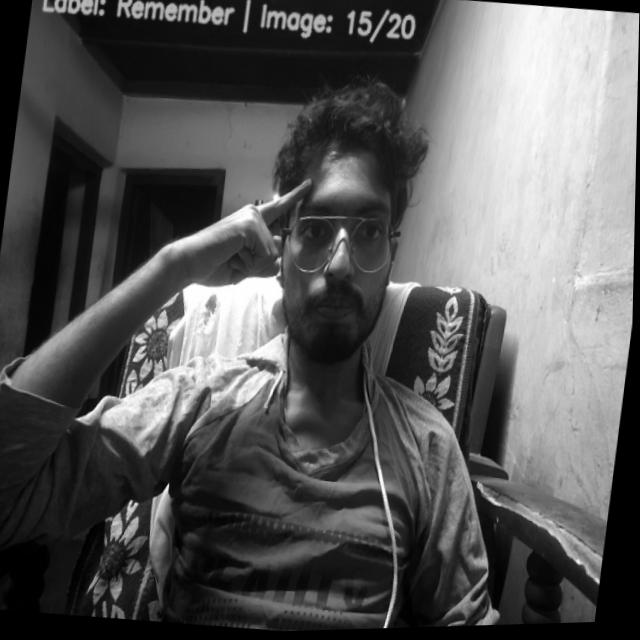Remember: (185, 164, 319, 297)
